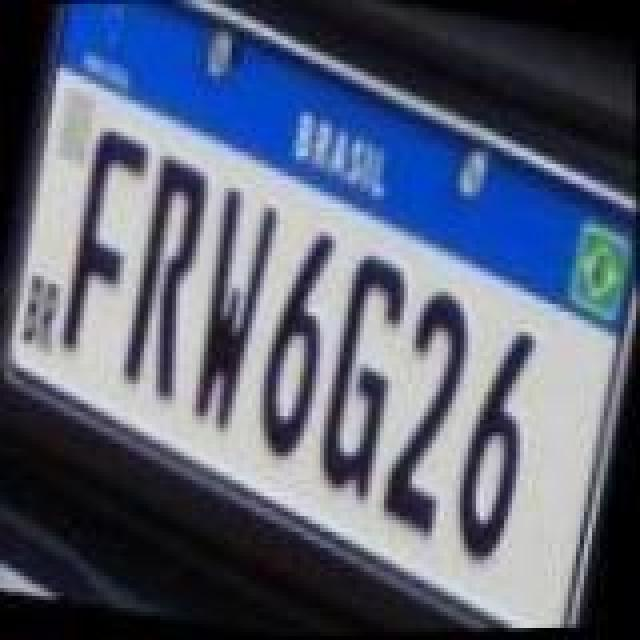2: (378, 284, 486, 540)
6: (444, 324, 548, 568), (248, 222, 348, 458)
F: (54, 124, 154, 360)
G: (310, 254, 418, 506)
R: (112, 154, 220, 406)
W: (176, 186, 284, 438)
